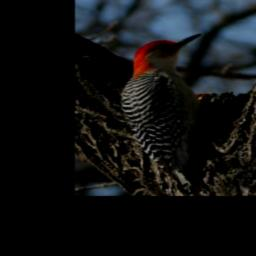Woodpecker: (117, 31, 218, 193)
